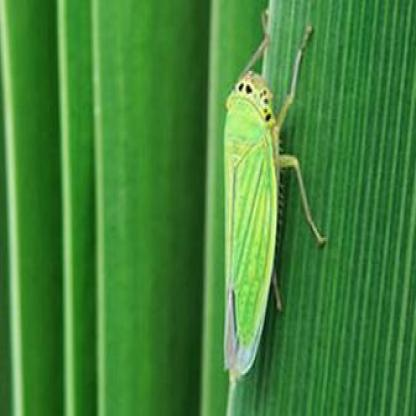Green-Leafhopper: (220, 8, 326, 387)
